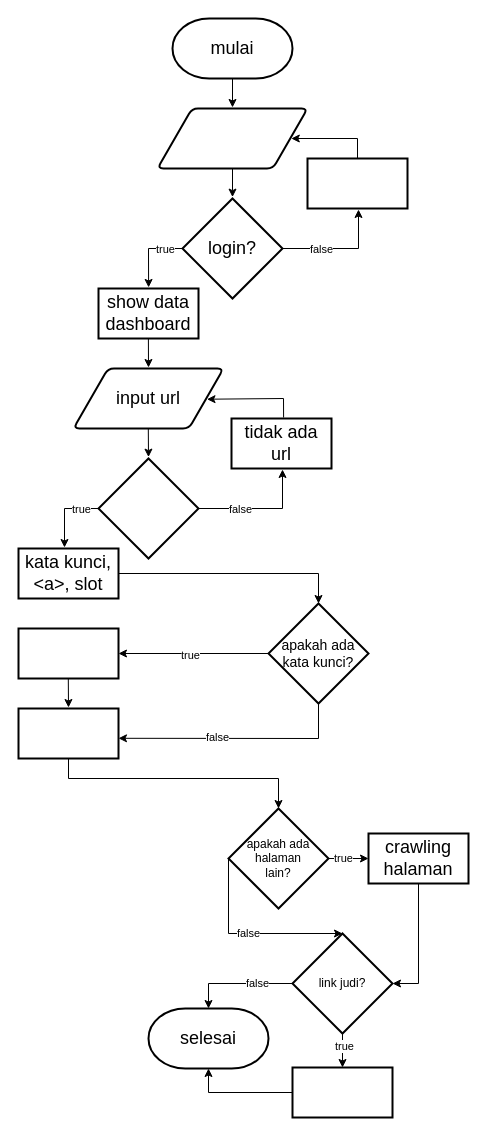
Image size: 486x1135. Some labels were removed from this diagram. The centre of each missing label's shape, as x and y in pixels:
ambil, get.BeautifulSoup: the point at 68,653
dfs, craw, scraper: the point at 68,733
email password: the point at 232,138
login gagal: the point at 357,183
memasukkan url?: the point at 148,508
simpan db, txt: the point at 342,1092
